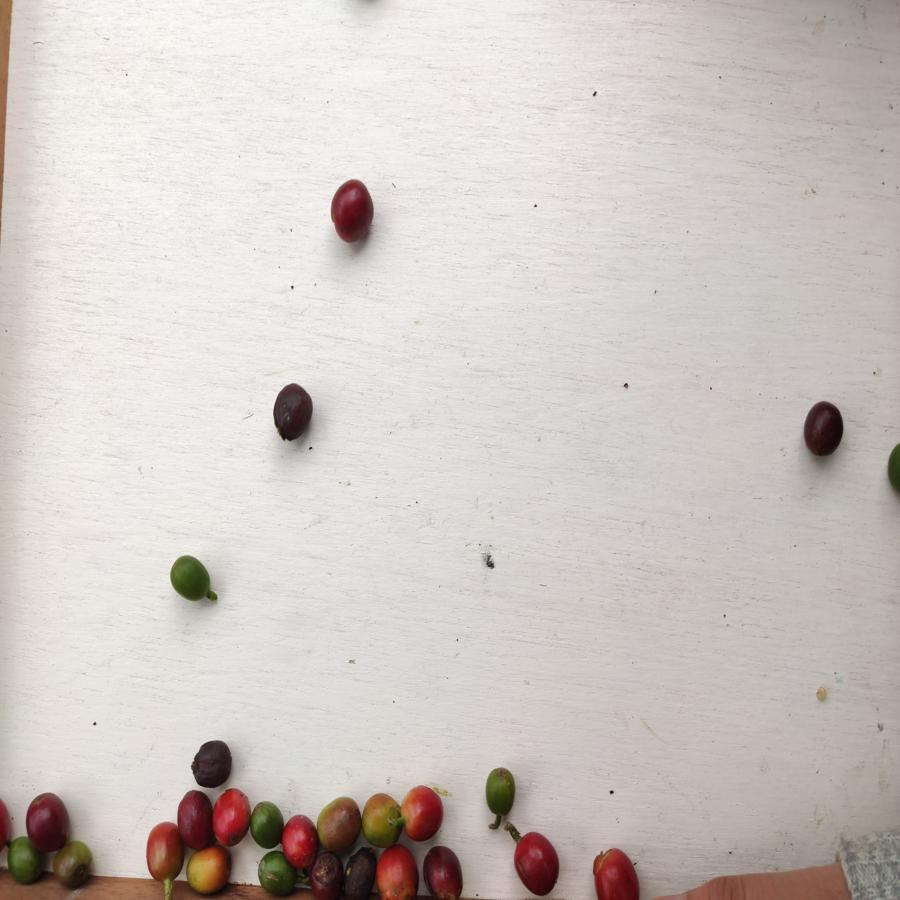Inmaduro: (165, 555, 218, 609), (7, 842, 50, 890), (486, 765, 519, 822), (252, 801, 282, 853), (256, 850, 287, 892)
Maduro: (510, 831, 563, 897), (590, 842, 649, 900), (376, 848, 421, 900), (402, 784, 444, 839), (213, 788, 251, 845), (282, 812, 318, 867)
Pinton: (359, 789, 401, 847), (188, 847, 235, 893), (315, 800, 361, 845), (148, 822, 182, 882)
Sobremaduro: (330, 176, 378, 246), (267, 380, 317, 447), (798, 398, 848, 458), (424, 843, 465, 896), (27, 793, 66, 847), (192, 739, 234, 788), (340, 847, 377, 899), (176, 791, 210, 846), (312, 853, 340, 898)
